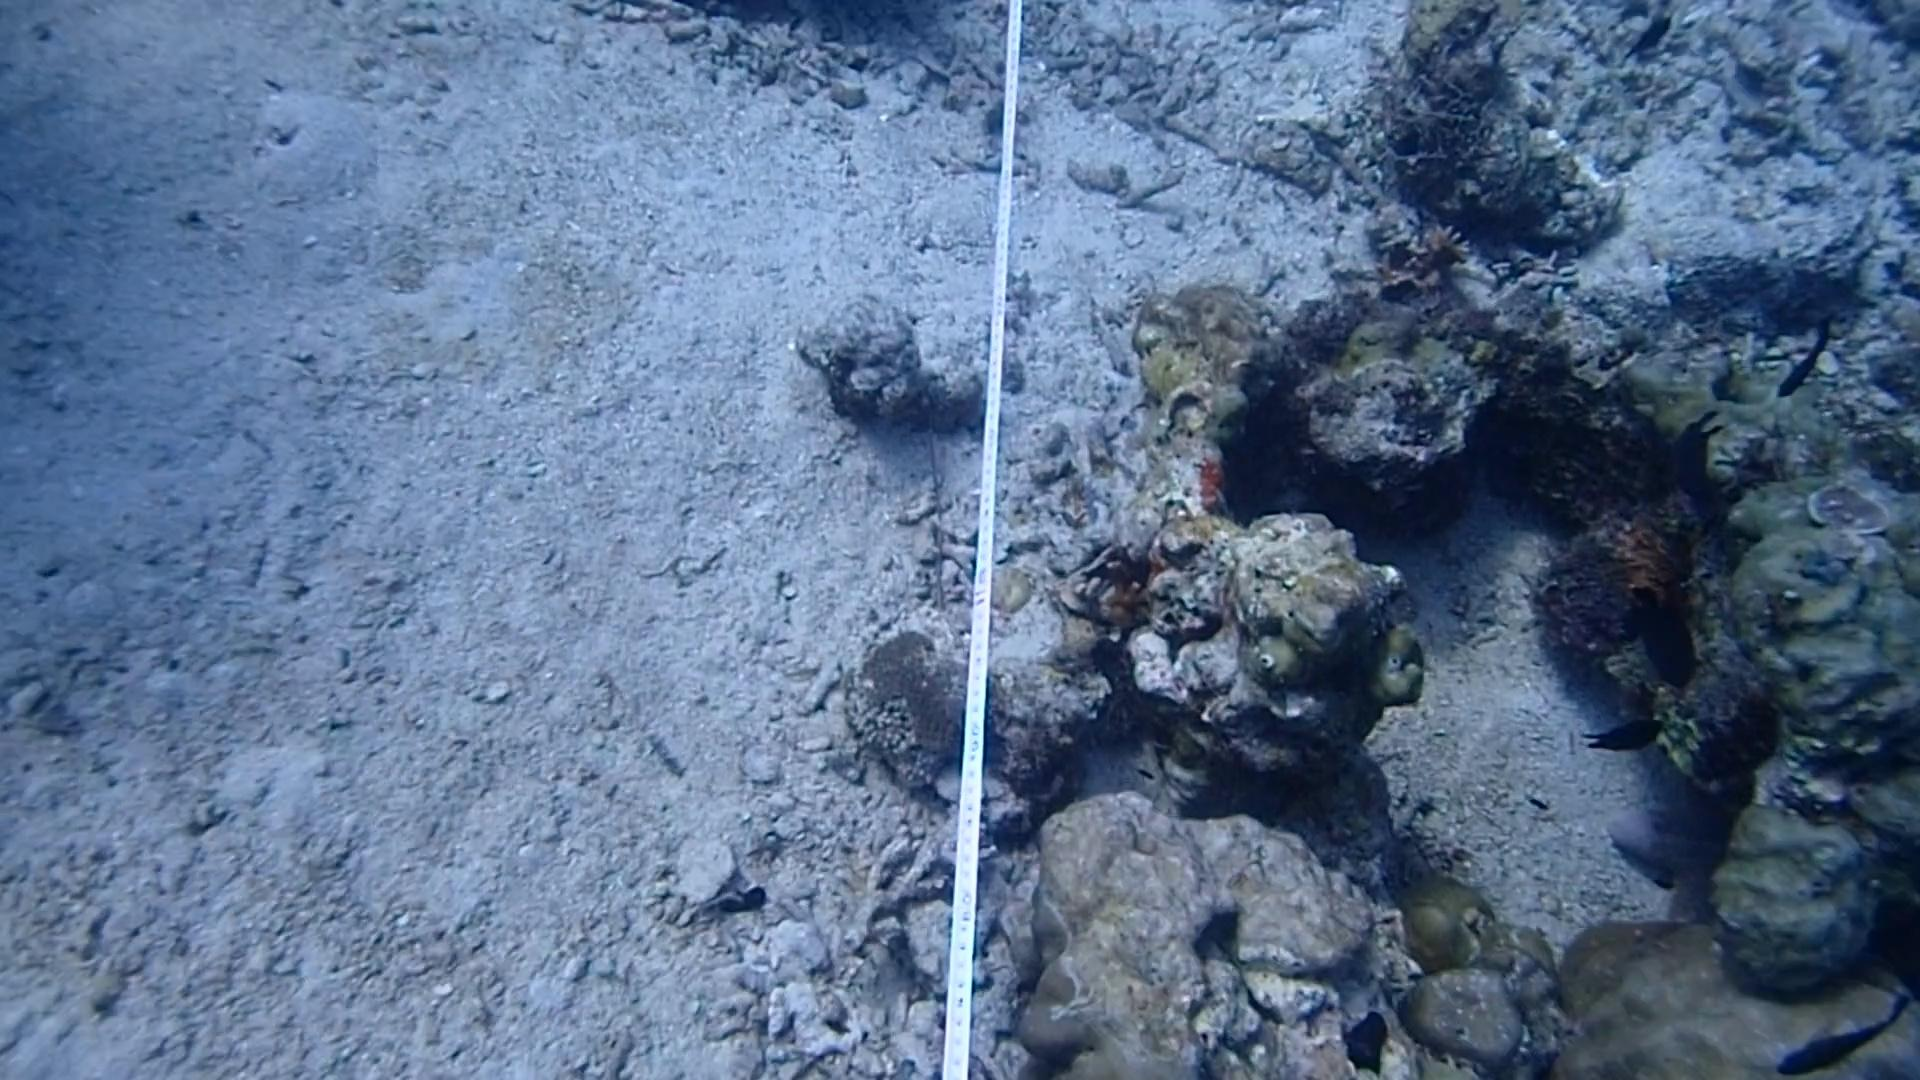Dark Fish: (1759, 984, 1913, 1079), (1631, 588, 1708, 688), (1770, 313, 1833, 407), (1568, 712, 1672, 766), (1623, 15, 1681, 70)
